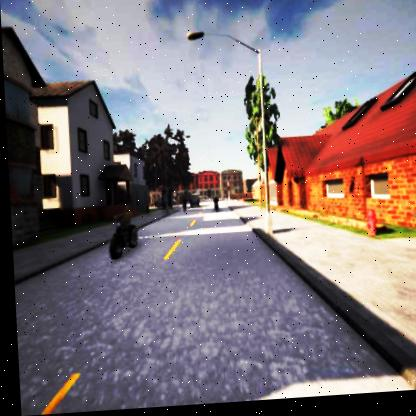motobike: (104, 200, 137, 261), (210, 201, 217, 216)
